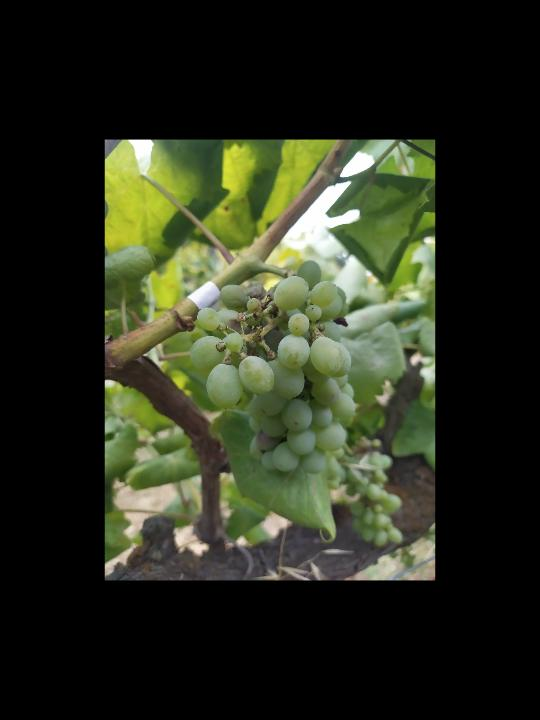grape: (188, 255, 369, 475)
